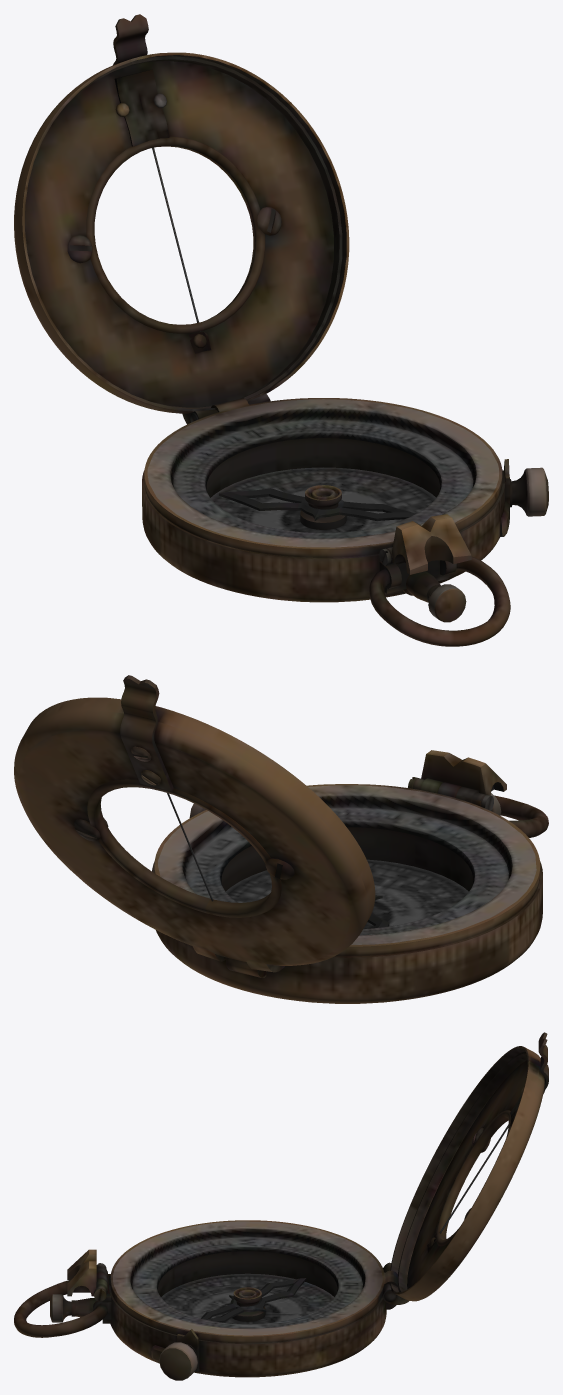
File: seadogs_compass.glb
3 views of the same model, one above another, from view 1: azimuth 30°, elevation 25°; view 2: azimuth 150°, elevation 25°; view 3: azimuth 270°, elevation 25° (orthographic). The views are drawn at different scales.
Visible parts, largest first — view 1: seadogs_compass; view 2: seadogs_compass; view 3: seadogs_compass.
Part boxes in pixels (x1,y1,x2,y2): seadogs_compass: (14, 14, 548, 646); seadogs_compass: (14, 675, 548, 1003); seadogs_compass: (14, 1032, 548, 1380).
Size of the model in its own units: 0.0813 by 0.0866 by 0.1441.
Materials: 1 (1 with a texture image).
